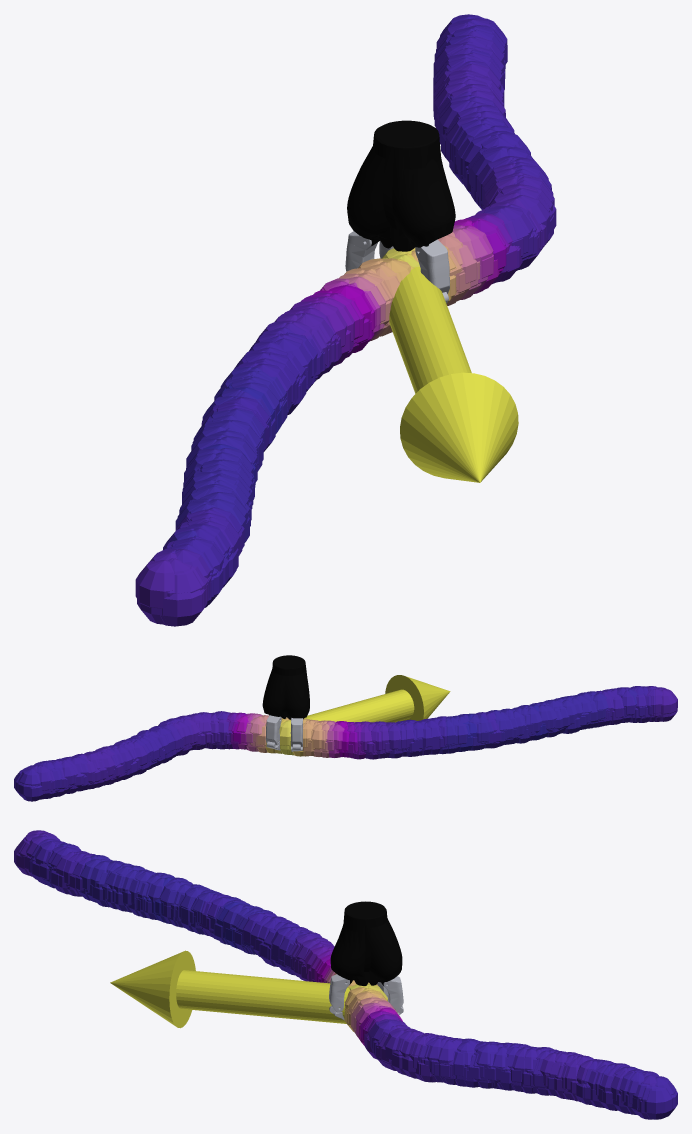
File: pred_hand_0.glb
The picture shows the model from 3 angles, top to bottom: view 1: azimuth 30°, elevation 25°; view 2: azimuth 150°, elevation 25°; view 3: azimuth 270°, elevation 25°; orthographic projection. The views are drawn at different scales.
Parts seen in each view (by area): view 1: world, geometry_0e2f9c6fd649d; view 2: world, geometry_0e2f9c6fd649d; view 3: world, geometry_0e2f9c6fd649d.
Part boxes in pixels (<box>): world: <box>135,14,556,626</box>; geometry_0e2f9c6fd649d: <box>389,267,518,482</box>; world: <box>14,655,677,801</box>; geometry_0e2f9c6fd649d: <box>304,675,450,722</box>; world: <box>14,830,677,1119</box>; geometry_0e2f9c6fd649d: <box>110,950,349,1028</box>.
Bounding box in the file's own units: 0.9662 × 0.2426 × 1.02.
